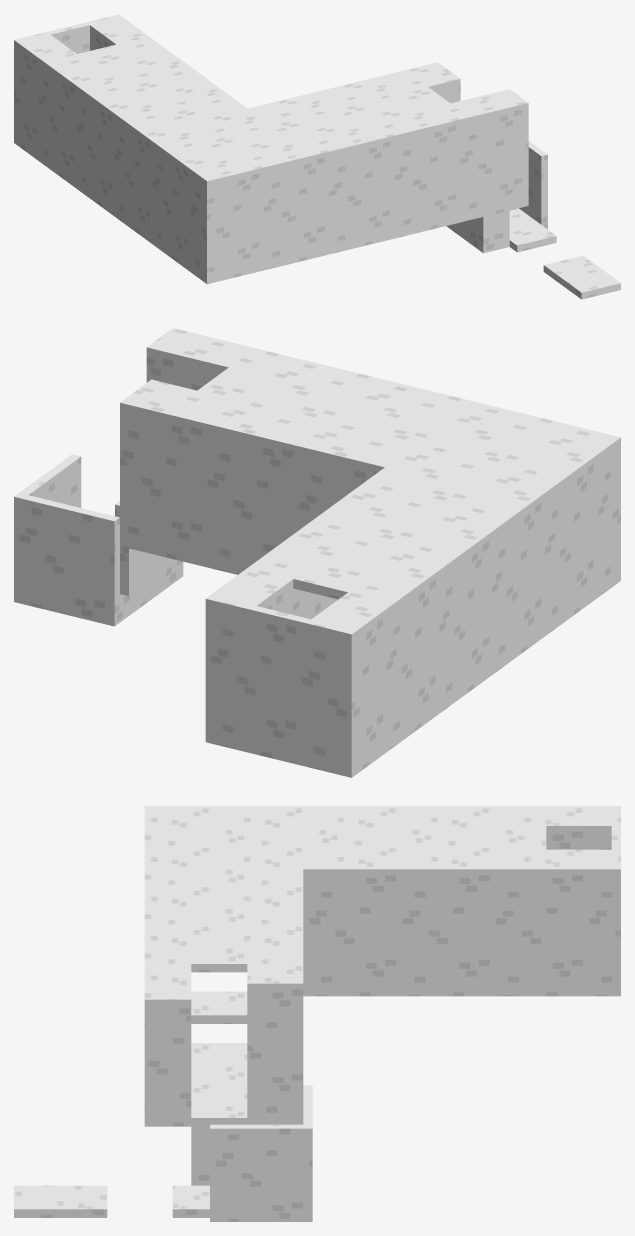
Rendered from level2.fbx.
3 renders of one model, top to bottom at view 1: azimuth 30°, elevation 25°; view 2: azimuth 150°, elevation 25°; view 3: azimuth 270°, elevation 25°, orthographic. The views are drawn at different scales.
Visible parts, largest first — view 1: block_default_51, block_default_55, block_default_61, block_default_52, block_default_56, block_default_50, porch_floor_center_41, block_default_48, block_default_45, block_default_60, porch_floor_center_42; view 2: block_default_55, block_default_52, block_default_60, block_default_51, block_default_46, block_default_61, block_default_56, block_default_50, block_default_45, block_default_54, block_default_48, block_default_47; view 3: block_default_56, block_default_52, block_default_51, block_default_55, block_default_45, block_default_61, block_default_50, block_default_49, porch_floor_center_41, block_default_48, block_default_60, block_default_62 (+3 smaller).
Boxes of the visible parts, bbox=[...] form: block_default_51: bbox=[221, 89, 528, 276]; block_default_55: bbox=[17, 35, 239, 284]; block_default_61: bbox=[77, 44, 259, 159]; block_default_52: bbox=[215, 62, 460, 132]; block_default_56: bbox=[90, 17, 247, 116]; block_default_50: bbox=[238, 87, 450, 149]; porch_floor_center_41: bbox=[543, 255, 620, 299]; block_default_48: bbox=[460, 210, 509, 253]; block_default_45: bbox=[519, 141, 547, 229]; block_default_60: bbox=[14, 14, 122, 145]; porch_floor_center_42: bbox=[509, 208, 556, 252]; block_default_55: bbox=[311, 426, 620, 773]; block_default_52: bbox=[120, 379, 461, 574]; block_default_60: bbox=[205, 595, 356, 777]; block_default_51: bbox=[146, 328, 574, 445]; block_default_46: bbox=[14, 493, 119, 626]; block_default_61: bbox=[293, 432, 548, 599]; block_default_56: bbox=[211, 467, 430, 619]; block_default_50: bbox=[197, 367, 493, 455]; block_default_45: bbox=[14, 454, 81, 603]; block_default_54: bbox=[120, 537, 160, 595]; block_default_48: bbox=[115, 501, 183, 598]; block_default_47: bbox=[120, 580, 151, 622]; block_default_56: bbox=[303, 849, 611, 996]; block_default_52: bbox=[247, 849, 303, 1110]; block_default_51: bbox=[144, 826, 191, 1126]; block_default_55: bbox=[144, 806, 611, 849]; block_default_45: bbox=[210, 1124, 312, 1221]; block_default_61: bbox=[191, 826, 546, 849]; block_default_50: bbox=[191, 849, 247, 972]; block_default_49: bbox=[191, 1043, 247, 1102]; porch_floor_center_41: bbox=[14, 1185, 107, 1217]; block_default_48: bbox=[191, 1102, 247, 1185]; block_default_60: bbox=[611, 806, 620, 996]; block_default_62: bbox=[191, 991, 247, 1023].
Size of the model in its own units: 56 by 23 by 65.
Materials: 2 (1 with a texture image).
